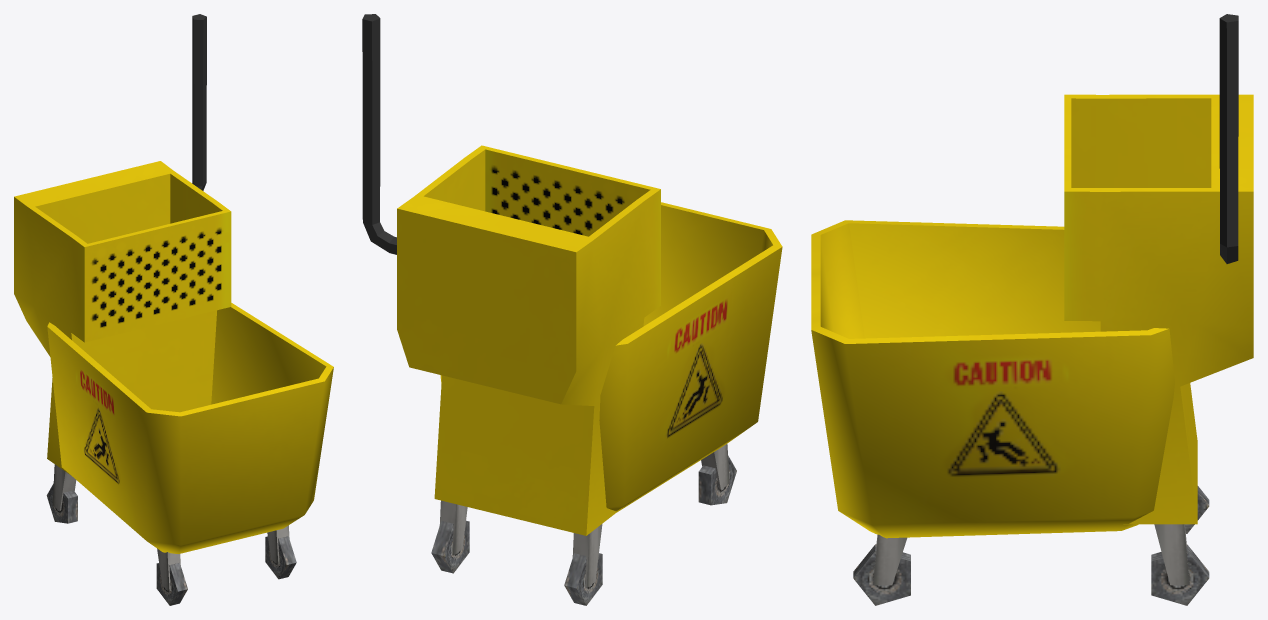
File: cleaning_canister.dae
The picture shows the model from 3 angles, left to right: view 1: azimuth 30°, elevation 25°; view 2: azimuth 150°, elevation 25°; view 3: azimuth 270°, elevation 25°; orthographic projection. The views are drawn at different scales.
Visible parts, largest first — view 1: cleaning_canister, cleaning_canister_p; view 2: cleaning_canister, cleaning_canister_p; view 3: cleaning_canister, cleaning_canister_p.
Part boxes in pixels (x1,y1,x2,y2): cleaning_canister: (14,161,333,605); cleaning_canister_p: (192,14,206,190); cleaning_canister: (397,145,782,605); cleaning_canister_p: (362,14,396,254); cleaning_canister: (811,94,1253,605); cleaning_canister_p: (1219,14,1238,263).
Bounding box in the file's own units: 0.4912 × 0.691 × 1.06.
1 material, 1 textured.
